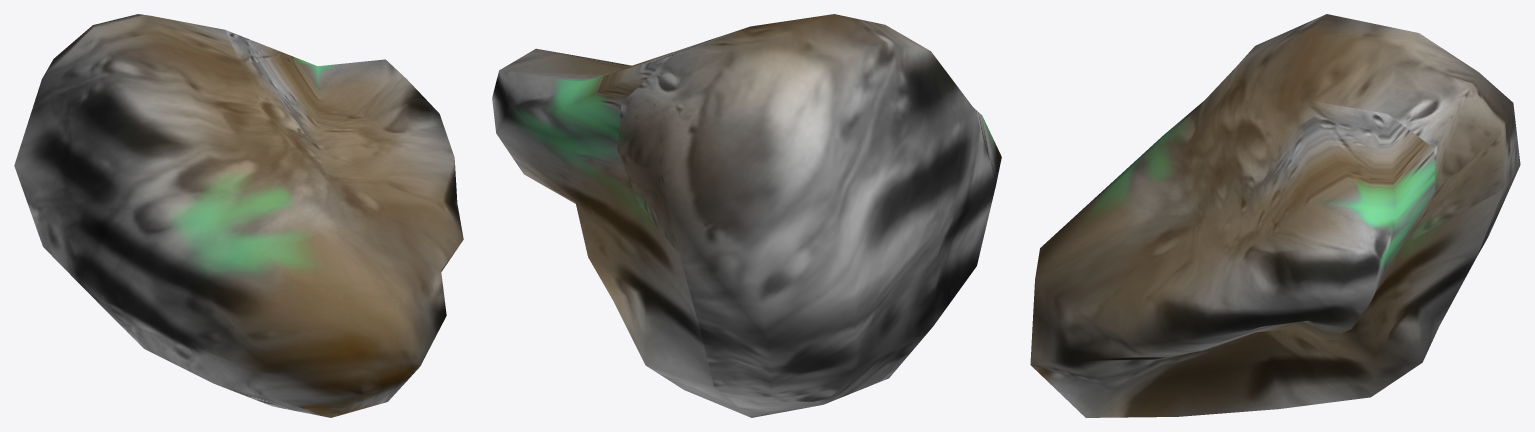
File: asteroid2.dae
The picture shows the model from 3 angles, left to right: view 1: azimuth 30°, elevation 25°; view 2: azimuth 150°, elevation 25°; view 3: azimuth 270°, elevation 25°; orthographic projection. The views are drawn at different scales.
Parts seen in each view (by area): view 1: Cube; view 2: Cube; view 3: Cube.
Part boxes in pixels (box(x1,y1,x2,y2)): Cube: box(14, 14, 463, 417); Cube: box(492, 14, 1001, 417); Cube: box(1030, 14, 1520, 417).
Bounding box in the file's own units: 1.67 × 1.88 × 1.47.
